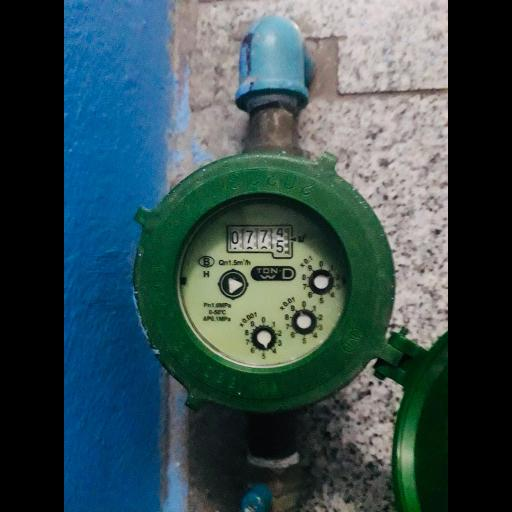0: (230, 229, 244, 249)
4: (271, 228, 289, 255)
7: (258, 227, 273, 249), (243, 228, 258, 249)
border_water_meter_number: (227, 224, 294, 259)
